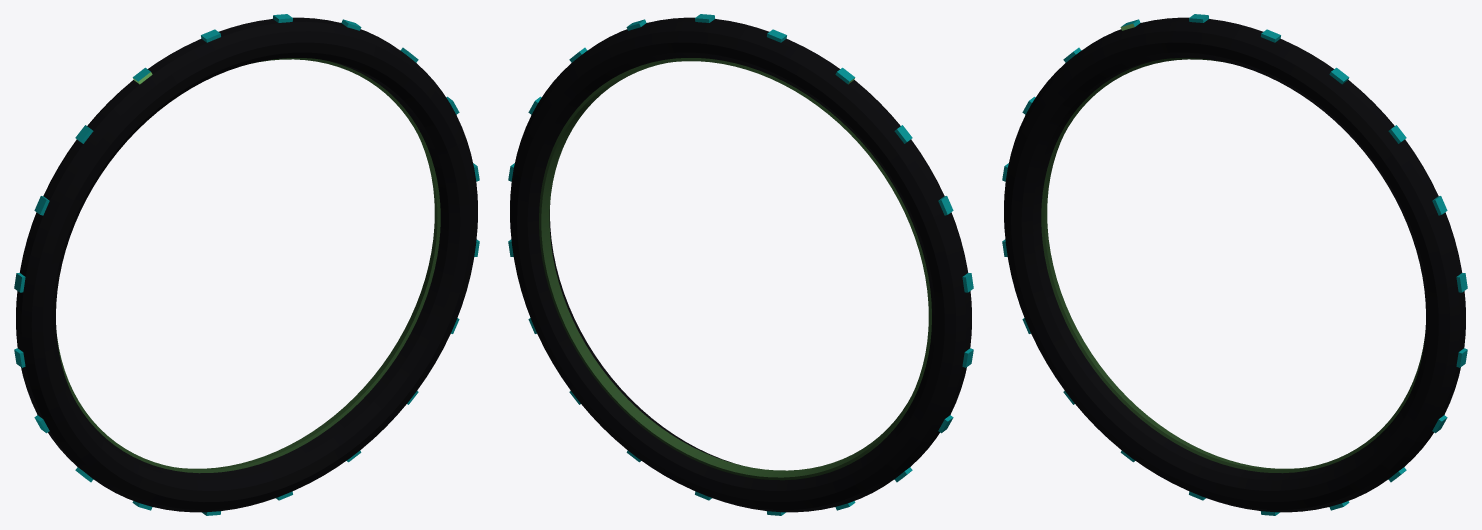
File: speed-ring-vertical.obj
3 views of the same model, side by side, from view 1: azimuth 30°, elevation 25°; view 2: azimuth 150°, elevation 25°; view 3: azimuth 330°, elevation 25° (orthographic).
Size of the model in its own units: 26.11 by 26.11 by 1.98.
